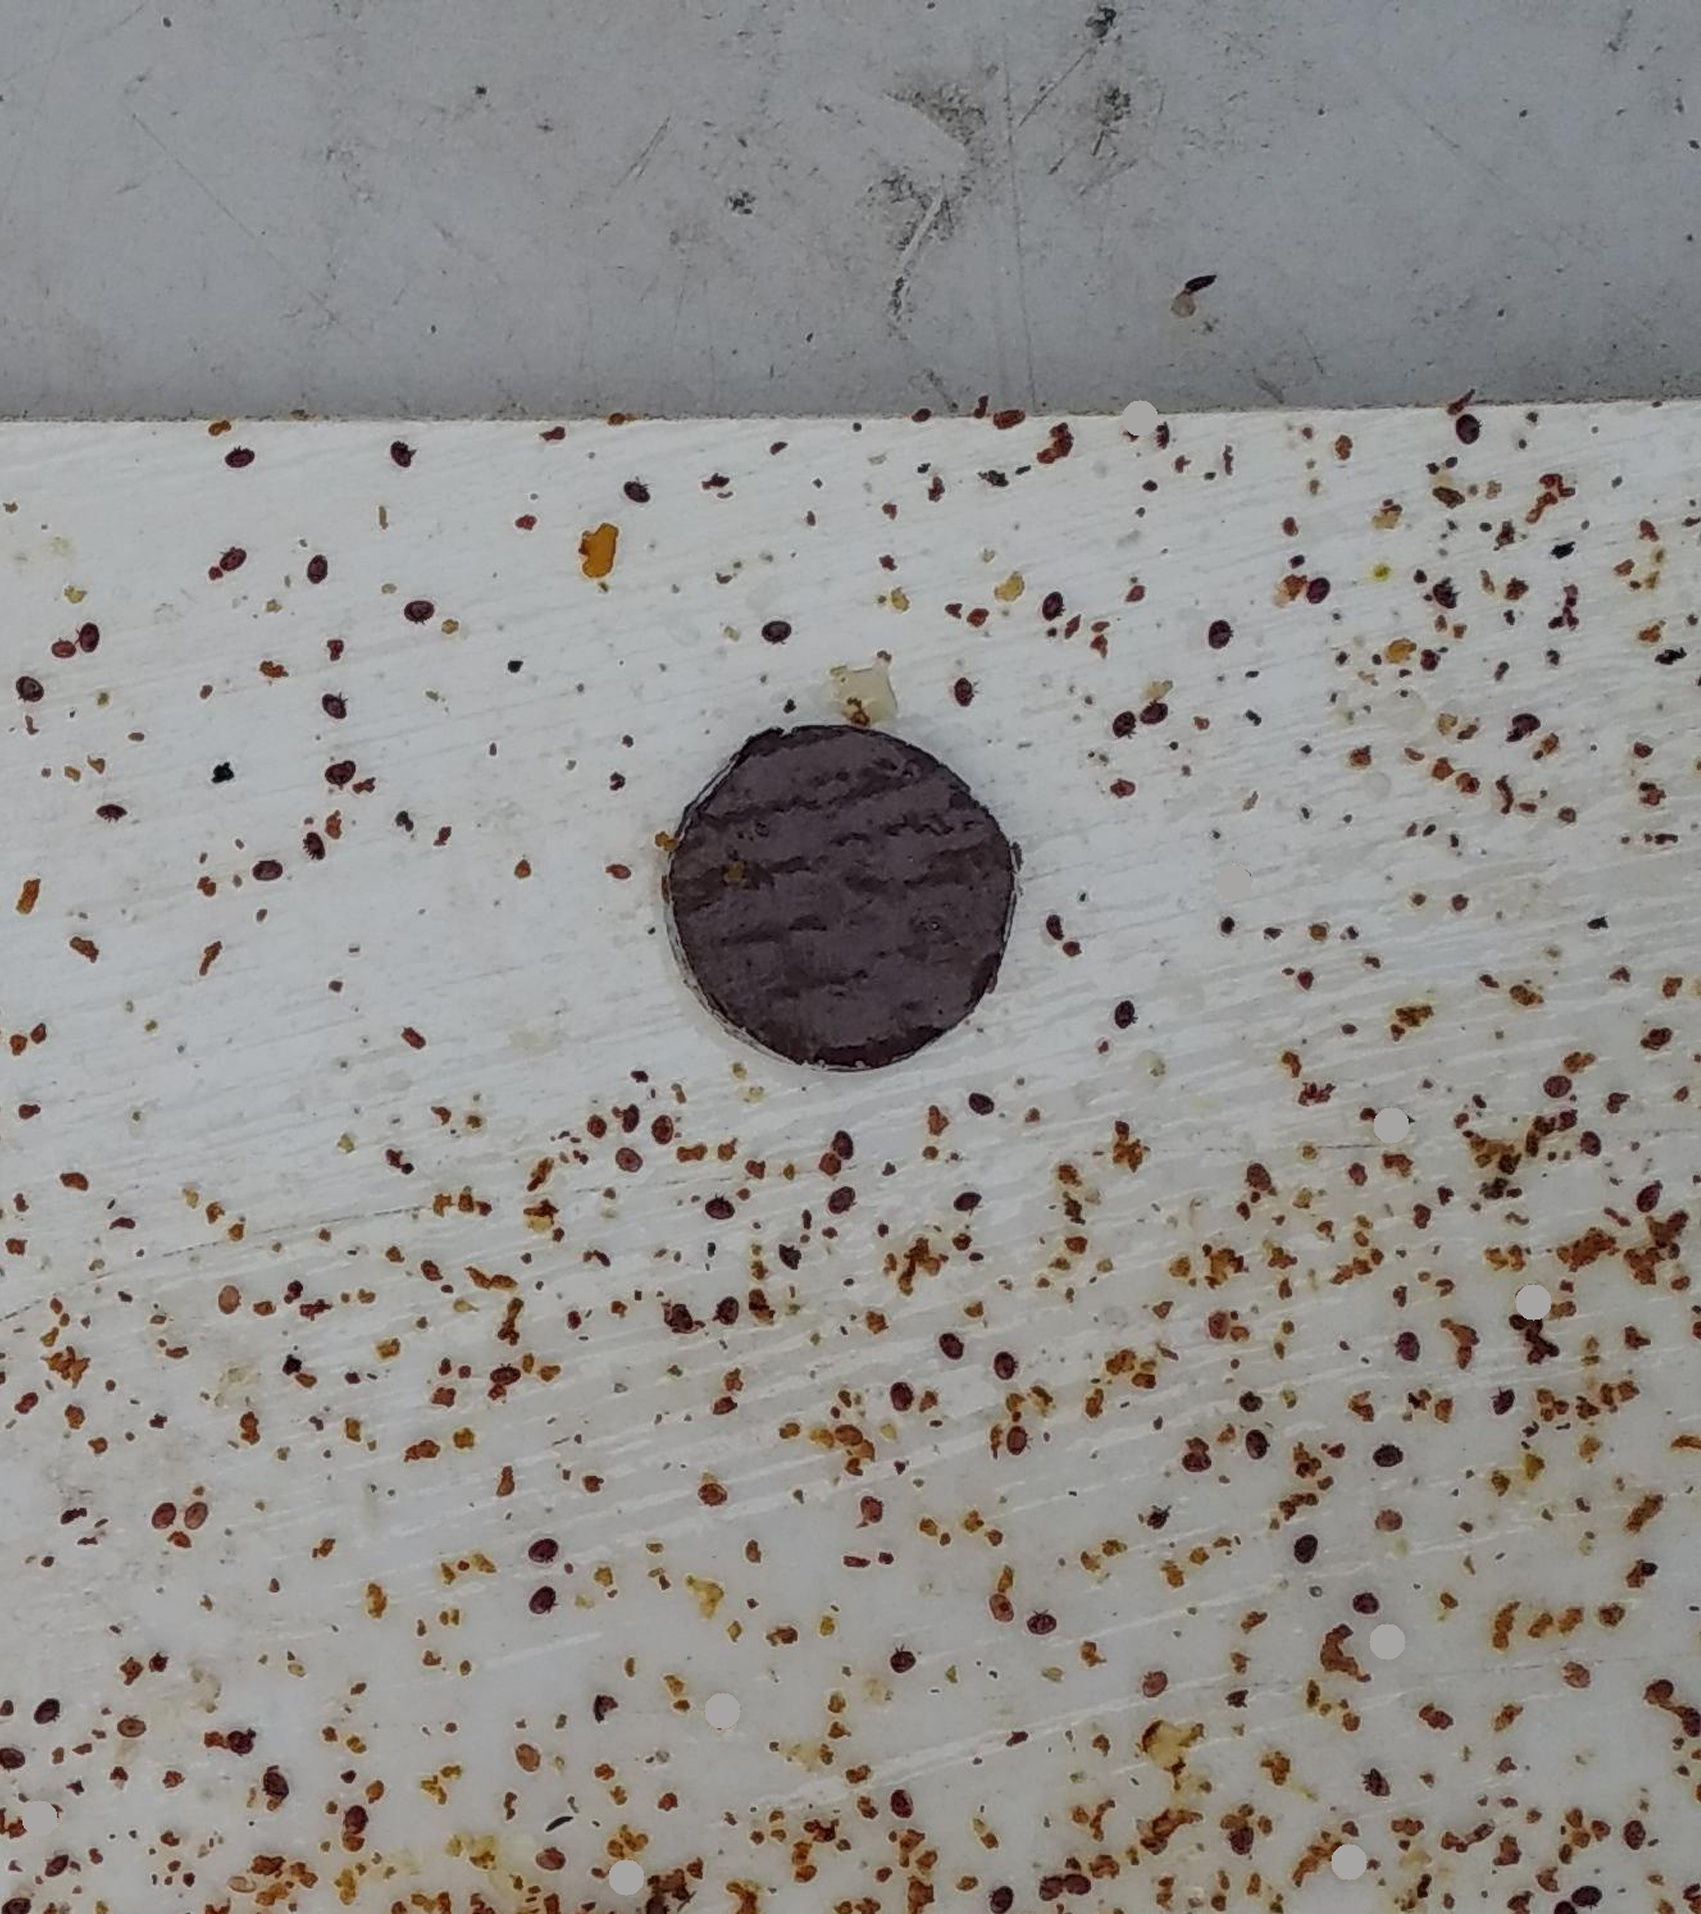Varroa: (539, 1802, 581, 1847), (1143, 415, 1185, 456), (1555, 1660, 1593, 1697), (1036, 909, 1074, 947), (1061, 1865, 1097, 1903), (855, 1490, 892, 1527), (509, 1738, 545, 1774), (1177, 1446, 1212, 1481), (1034, 1870, 1069, 1904), (611, 1105, 645, 1139), (1240, 1162, 1272, 1195), (663, 1302, 696, 1335), (486, 1362, 519, 1395), (828, 1128, 860, 1161), (703, 1192, 734, 1225), (709, 1297, 740, 1330), (1223, 1822, 1256, 1853), (41, 1855, 72, 1888), (15, 670, 48, 701), (1346, 1587, 1379, 1619), (695, 1477, 726, 1510), (181, 1497, 212, 1530), (1571, 1129, 1602, 1161), (259, 1774, 291, 1806), (1359, 1763, 1391, 1794), (883, 1788, 915, 1819), (1484, 1385, 1515, 1417), (144, 1505, 176, 1536), (616, 1142, 647, 1174), (1108, 1006, 1139, 1037), (1205, 1312, 1235, 1343), (323, 757, 353, 788), (113, 1712, 144, 1742), (404, 602, 433, 634), (650, 1116, 680, 1147), (30, 1696, 61, 1725), (823, 1188, 852, 1220), (1640, 1679, 1670, 1710), (95, 801, 125, 832), (1447, 412, 1476, 443), (1538, 1069, 1570, 1098), (772, 1241, 801, 1271), (389, 440, 419, 469), (890, 1382, 919, 1412), (220, 1725, 250, 1755), (949, 1190, 979, 1220), (1427, 584, 1456, 614), (529, 1586, 558, 1615), (1391, 1335, 1419, 1366), (933, 1331, 961, 1362), (54, 639, 85, 666), (1236, 1431, 1264, 1463), (759, 619, 786, 648), (305, 553, 333, 583), (340, 1811, 368, 1840), (1107, 712, 1135, 742), (248, 857, 276, 886), (1506, 712, 1534, 742), (992, 1349, 1020, 1379), (319, 694, 346, 724), (1287, 1536, 1315, 1566), (1026, 1605, 1056, 1633), (1571, 1878, 1599, 1907), (1627, 1187, 1655, 1216), (527, 1536, 557, 1564), (223, 442, 251, 469), (946, 681, 974, 709), (885, 1638, 913, 1666), (1039, 589, 1067, 617), (535, 1847, 563, 1875), (832, 1417, 859, 1446), (1003, 1430, 1029, 1458), (1619, 1816, 1645, 1843), (1373, 1446, 1401, 1472), (988, 1886, 1016, 1912), (969, 1087, 995, 1115), (217, 547, 243, 575), (71, 624, 97, 652), (1143, 1668, 1169, 1696), (988, 1592, 1015, 1620), (1374, 1510, 1401, 1536), (304, 834, 328, 862), (210, 1285, 235, 1312), (624, 478, 649, 502), (1309, 575, 1332, 601), (1208, 617, 1231, 643), (1144, 699, 1169, 722)
